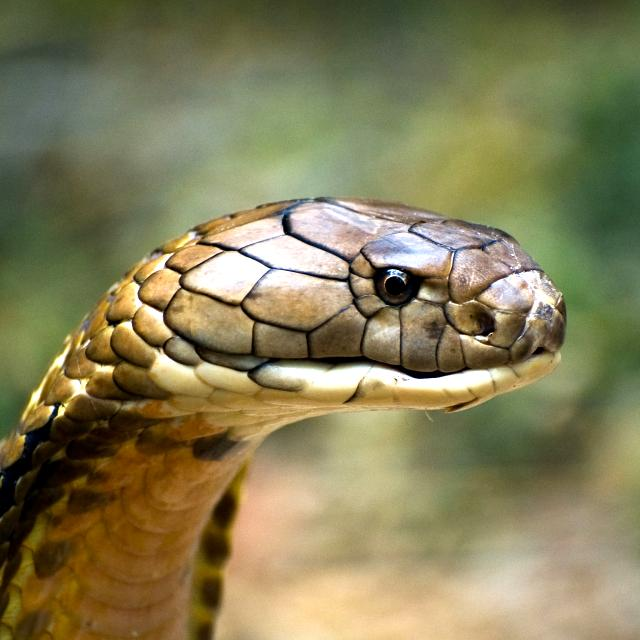Ophiophagus hannah: (0, 199, 565, 639)
snake: (0, 199, 565, 639)
